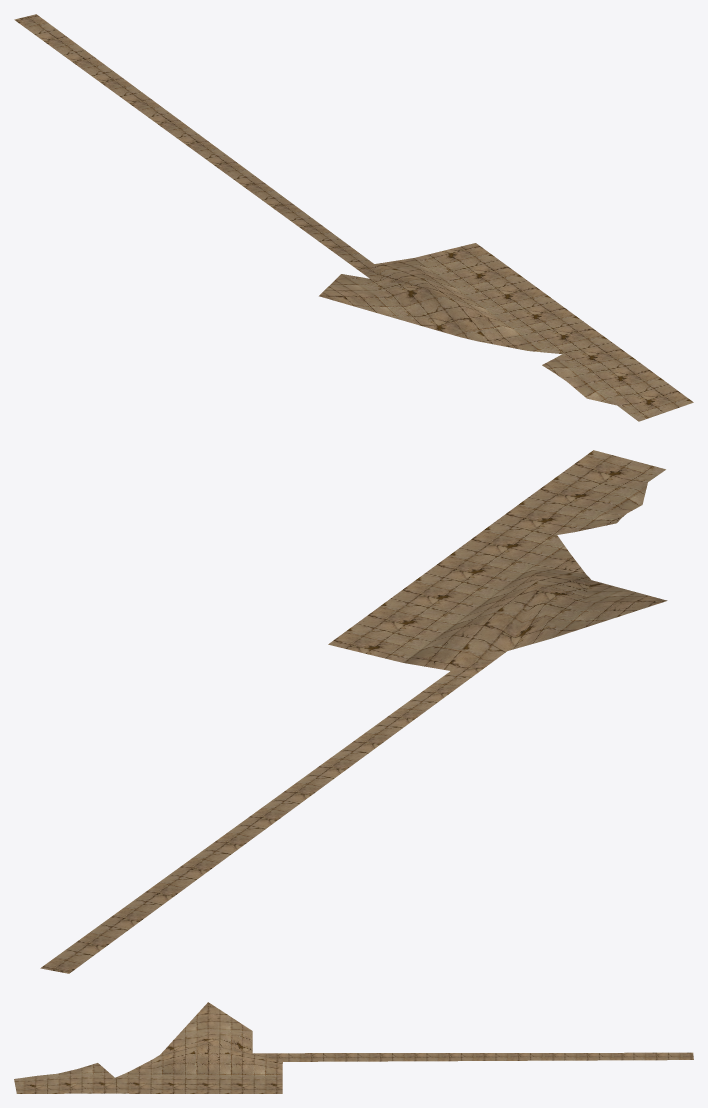
The model's file is Ground14_Terrain_LostTemple_001.FBX.
The picture shows the model from 3 angles, top to bottom: view 1: azimuth 30°, elevation 25°; view 2: azimuth 150°, elevation 25°; view 3: azimuth 270°, elevation 25°; orthographic projection. The views are drawn at different scales.
Visible parts, largest first — view 1: Ground14_Terrain_LostTemple_001; view 2: Ground14_Terrain_LostTemple_001; view 3: Ground14_Terrain_LostTemple_001.
Boxes of the visible parts, <box> form: Ground14_Terrain_LostTemple_001: <box>14,14,693,421</box>; Ground14_Terrain_LostTemple_001: <box>40,450,667,973</box>; Ground14_Terrain_LostTemple_001: <box>14,1002,693,1093</box>.
Bounding box in the file's own units: 1158 × 244 × 5133.
Materials: 1 (1 with a texture image).
